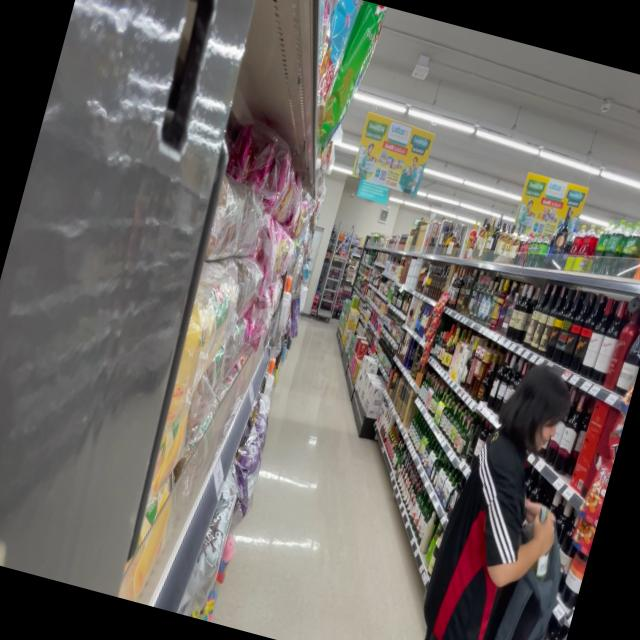shoplifting: (401, 348, 614, 640)
